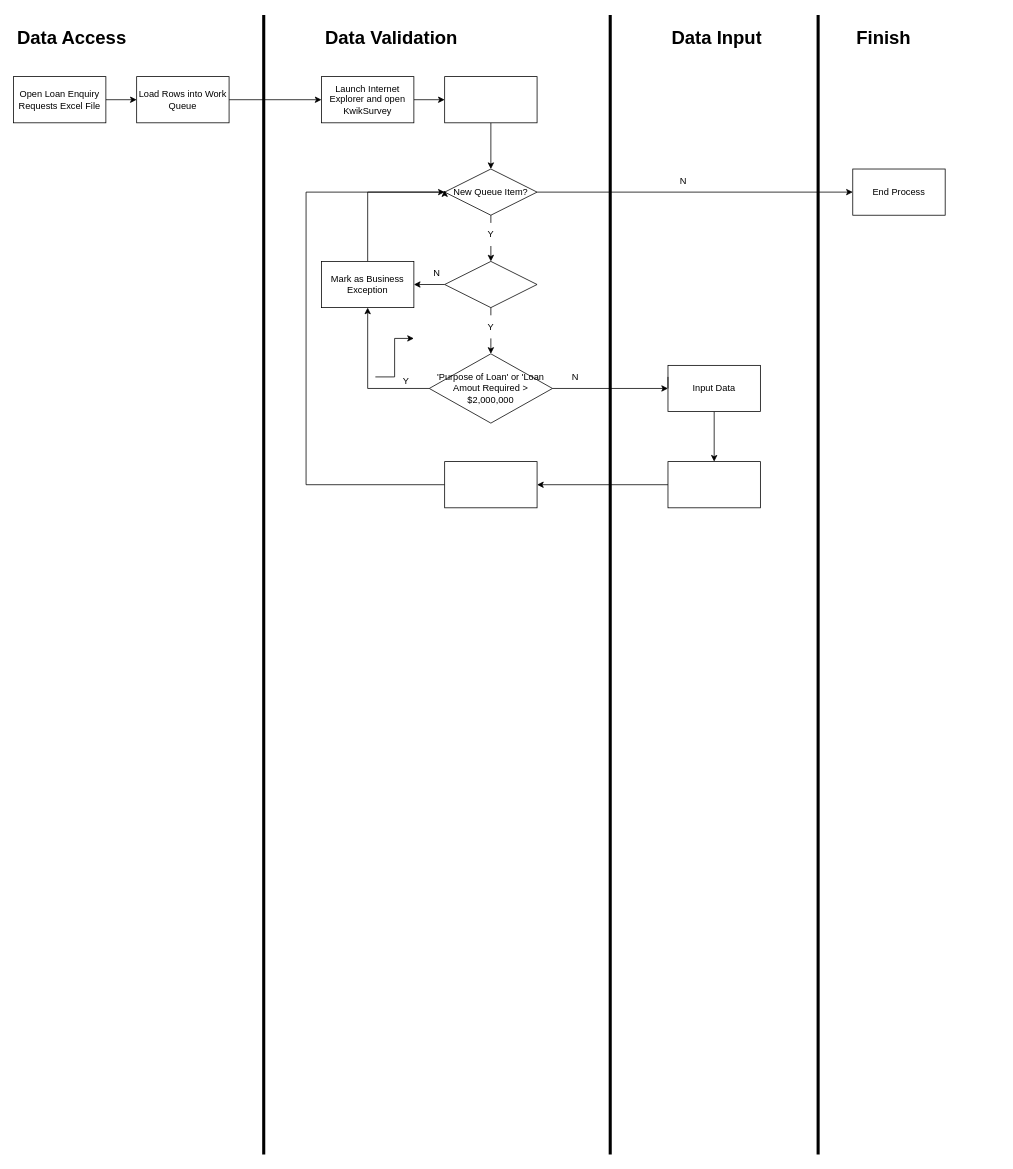
Image size: 1013x1169. Some labels were removed from this diagram. The centre of each missing label's shape, as x and y in pixels:
"Access Work Queue Item" belongs at [490,99].
"All Fields Present?" belongs at [490,284].
"Mark Queue Item as Complete" belongs at [713,484].
"Refresh the Page" belongs at [490,484].
